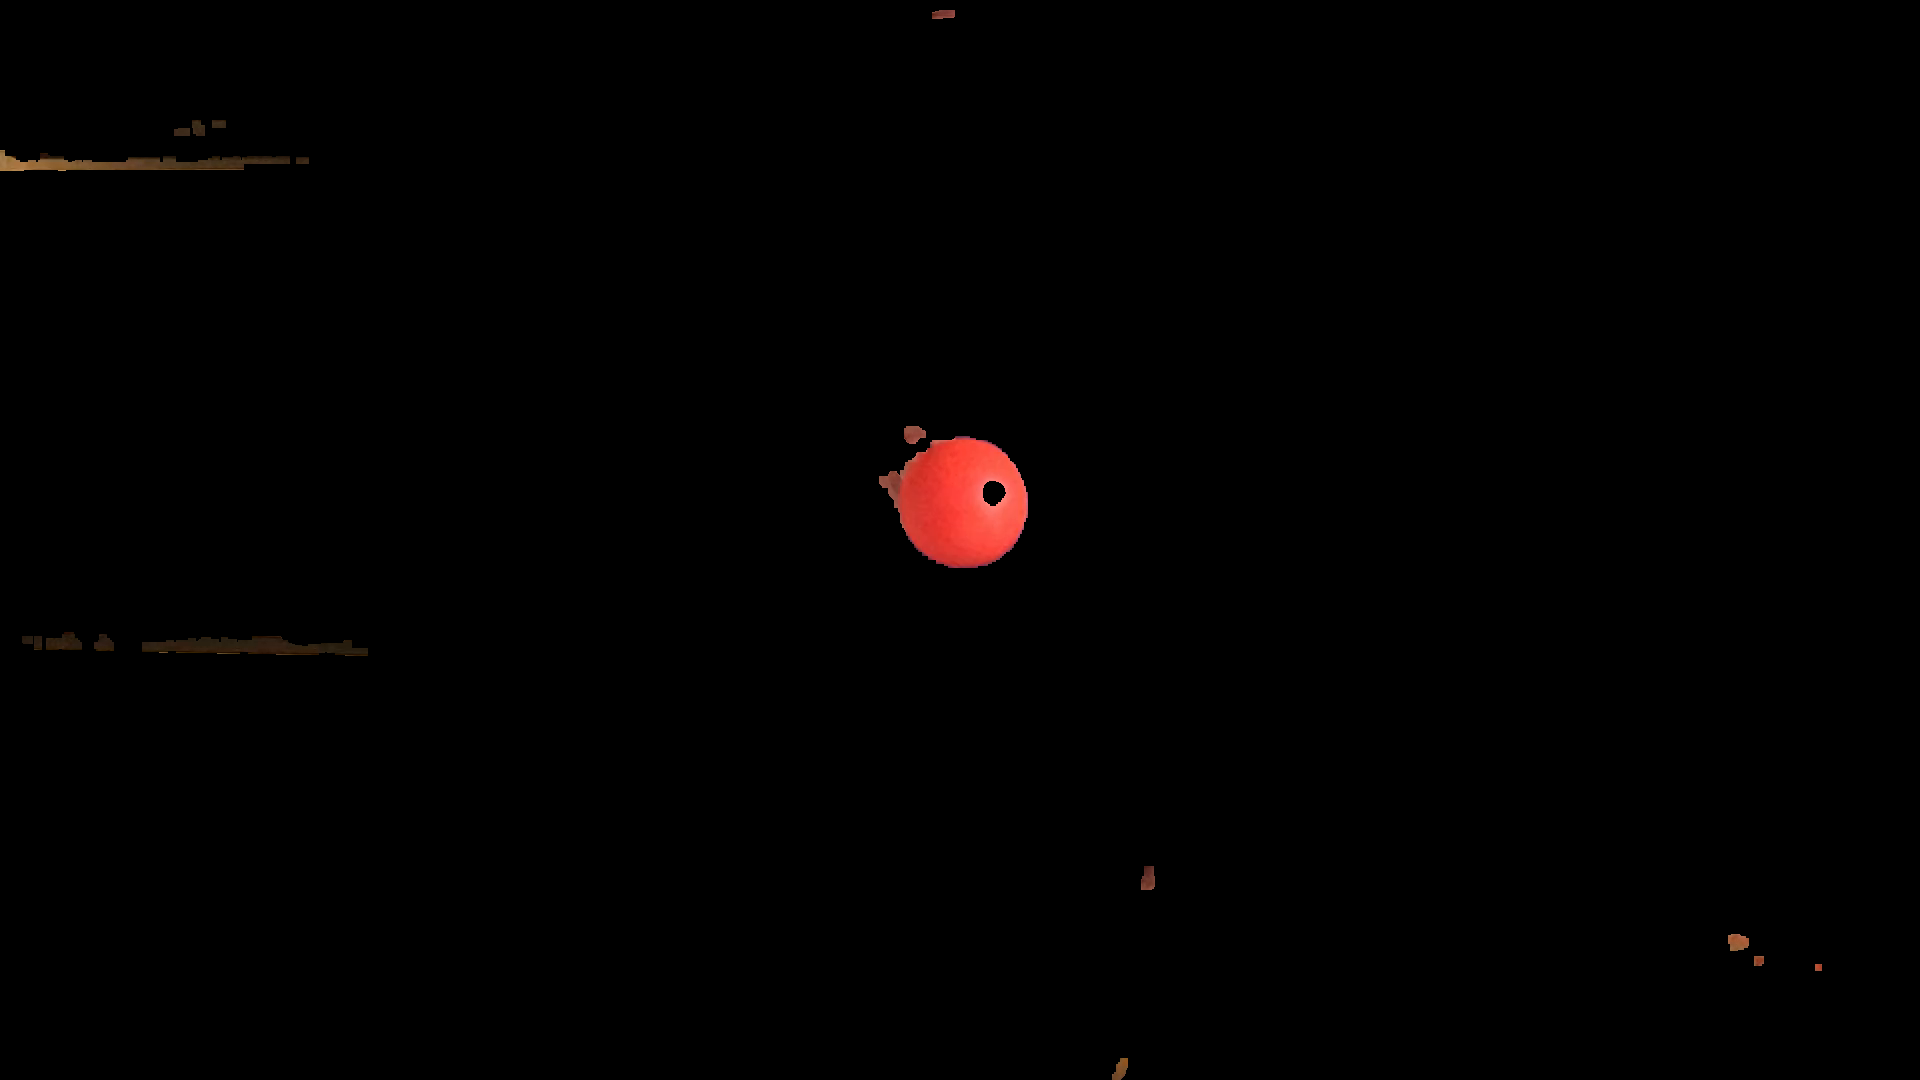Ball: (899, 439, 1026, 568)
